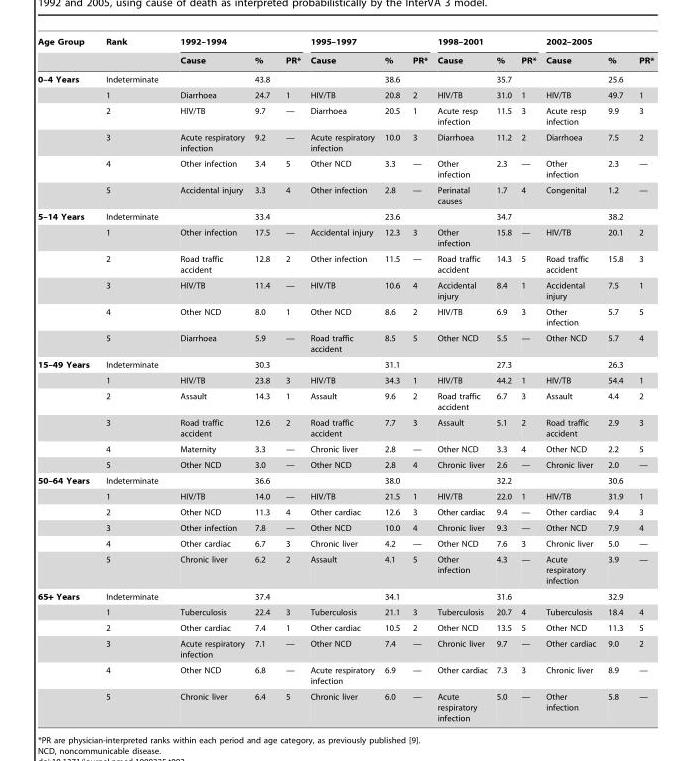table: (37, 37, 653, 722)
table column: (168, 37, 248, 722), (304, 37, 378, 722), (96, 37, 168, 722), (540, 37, 601, 722), (37, 37, 96, 722), (432, 37, 491, 722), (248, 37, 277, 722), (601, 37, 630, 722), (277, 37, 304, 722), (378, 37, 405, 722), (405, 37, 432, 722), (515, 37, 540, 722), (491, 37, 515, 722), (630, 37, 653, 722)
table column header: (37, 37, 653, 69)
table row: (37, 551, 653, 587), (37, 688, 653, 722), (37, 102, 653, 129), (37, 155, 653, 182), (37, 250, 653, 277), (37, 303, 653, 330), (37, 414, 653, 441), (37, 635, 653, 662), (37, 129, 653, 155), (37, 182, 653, 208), (37, 224, 653, 250), (37, 277, 653, 303), (37, 330, 653, 356), (37, 388, 653, 414), (37, 662, 653, 688), (37, 50, 653, 69), (37, 69, 653, 87), (37, 587, 653, 604), (37, 208, 653, 224), (37, 356, 653, 372), (37, 372, 653, 388), (37, 456, 653, 472), (37, 472, 653, 488), (37, 488, 653, 504), (37, 519, 653, 535), (37, 535, 653, 551), (37, 619, 653, 635), (37, 87, 653, 102), (37, 441, 653, 456), (37, 504, 653, 519), (37, 604, 653, 619), (37, 37, 653, 50)
table spanning cell: (37, 208, 96, 356), (37, 69, 96, 208), (37, 587, 96, 722), (37, 356, 96, 472), (37, 472, 96, 587), (96, 37, 168, 69), (37, 37, 96, 69), (168, 37, 304, 50), (304, 37, 432, 50), (540, 37, 653, 50), (432, 37, 540, 50)
